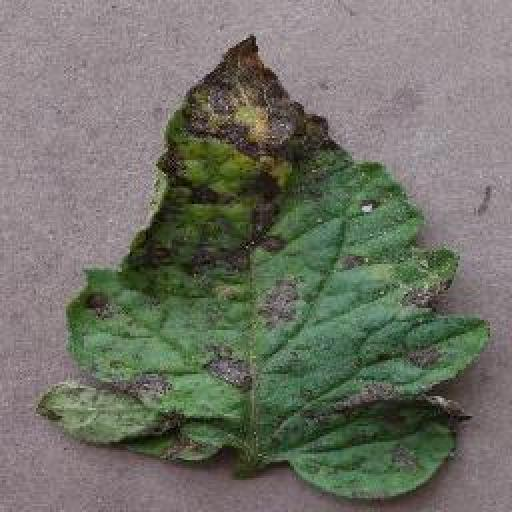disease_tomato: (43, 30, 491, 500)
